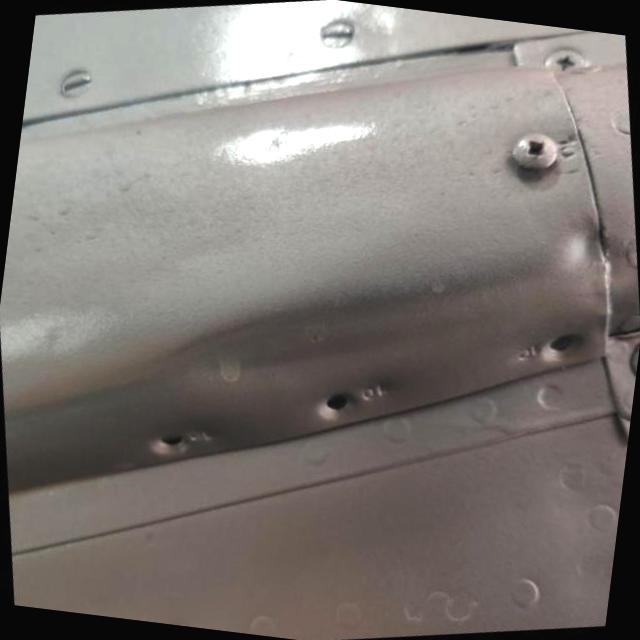Missing Fastener: (316, 384, 368, 432), (540, 322, 598, 364), (150, 430, 192, 458)
dent: (141, 250, 473, 406), (542, 207, 633, 291)
